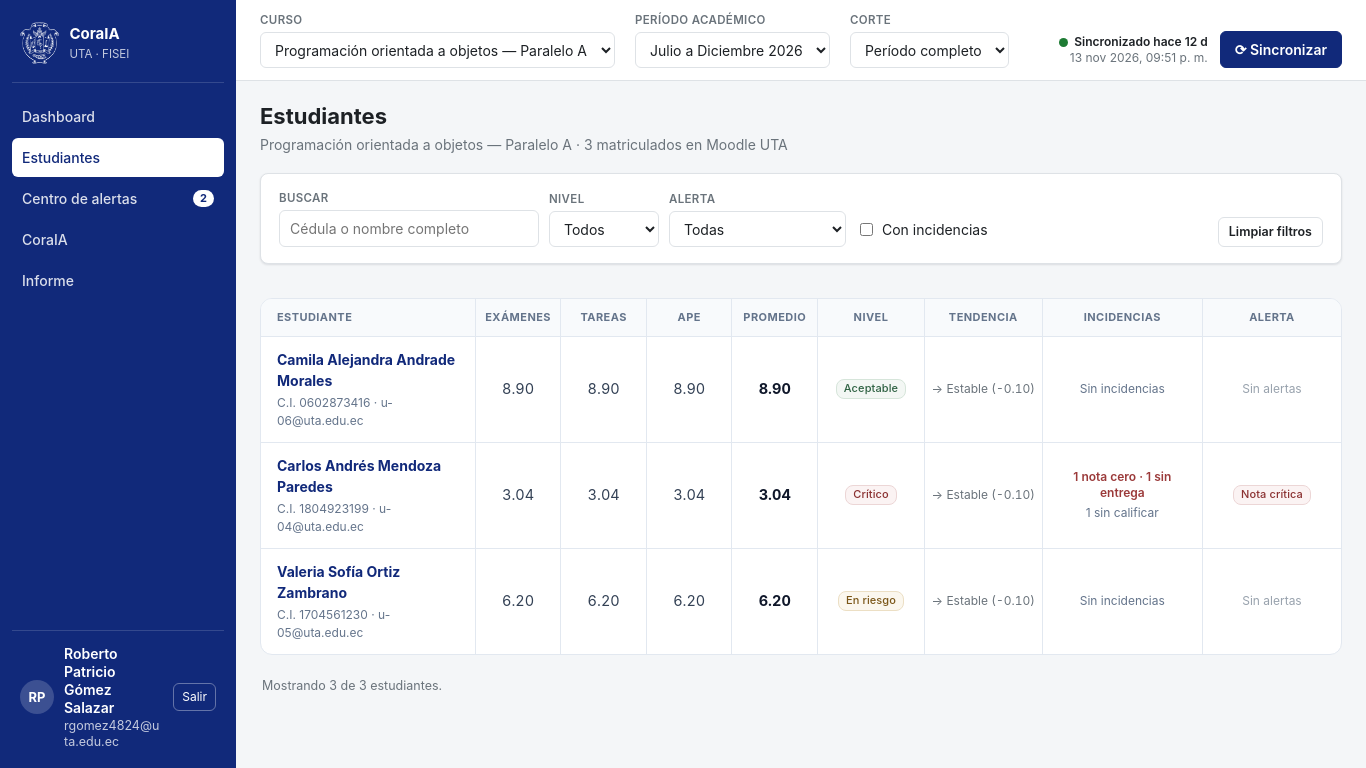
Scenario: RF-03 / RF-04 / RNF-08 · cursos, período y sincronización › el buscador y los filtros reducen el listado de estudiantes
The image size is (1366, 768).
Expected: the link "Carlos Andrés Mendoza Paredes" is shown, top-left (277, 454), bottom-right (467, 496)
Type "valeria" into the search field with placeholder "Cédula o nombre completo" at (409, 228), box top-left (279, 210), bottom-right (539, 247)
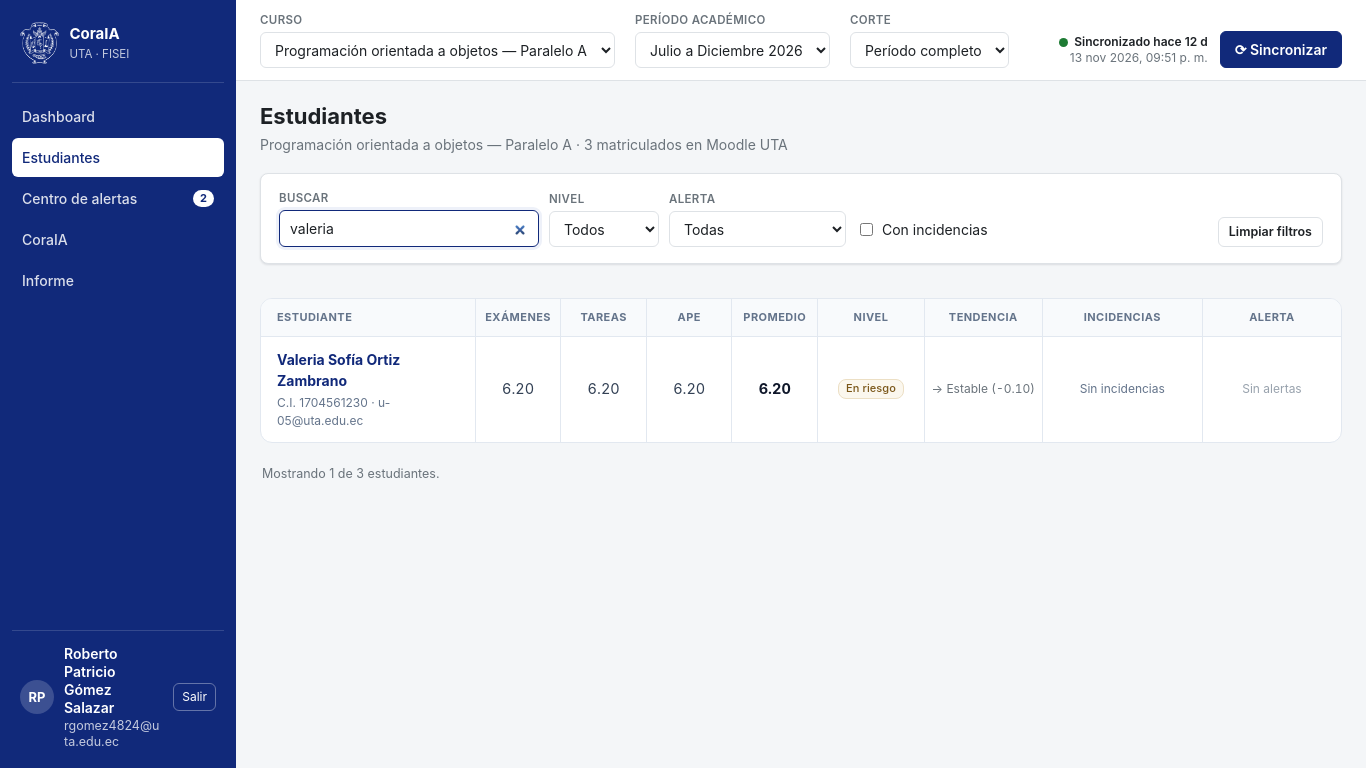
Expected: the link "Valeria Sofía Ortiz Zambrano" is shown, top-left (277, 350), bottom-right (400, 388)
Expected: the link "Carlos Andrés Mendoza Paredes" is gone
Clear the search field with placeholder "Cédula o nombre completo" at (409, 228), box top-left (279, 210), bottom-right (539, 247)
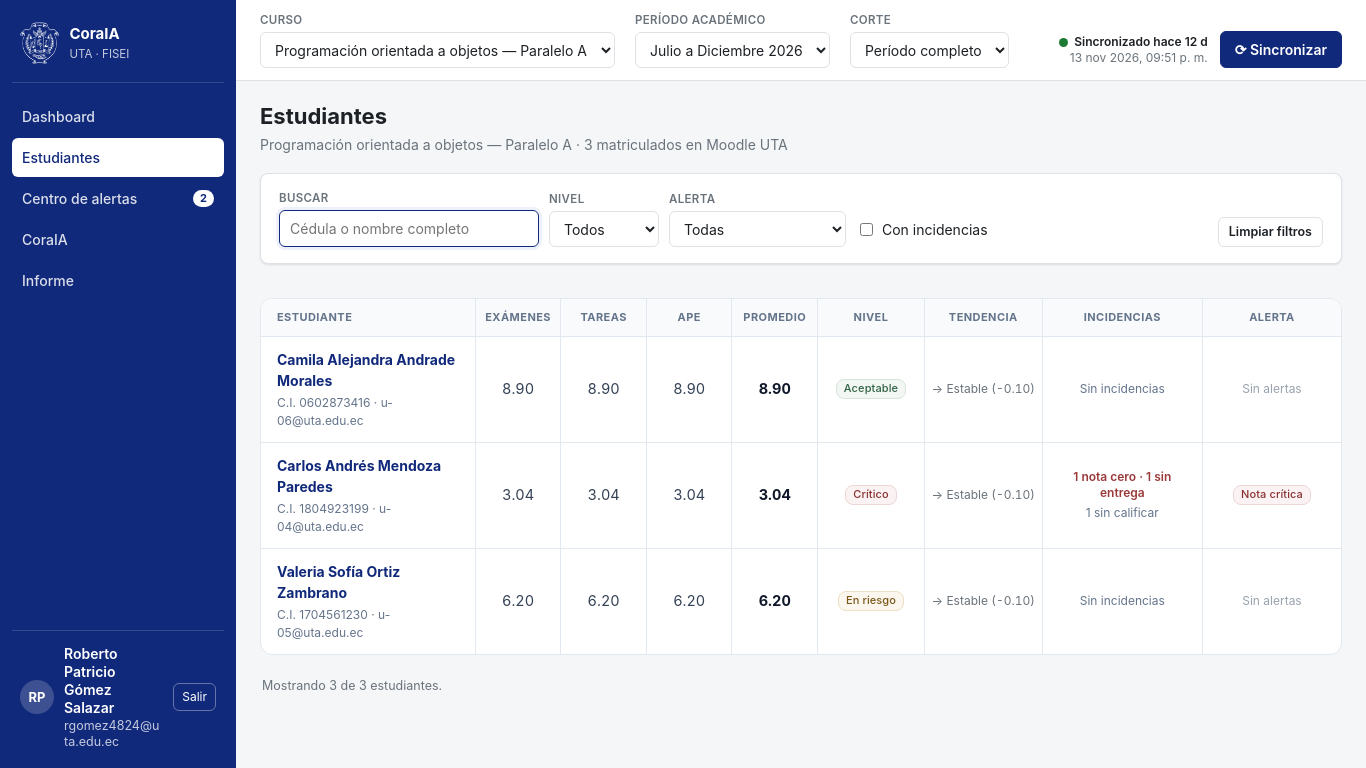
Click the checkbox labelled "Con incidencias" at (866, 229), box top-left (860, 222), bottom-right (873, 236)
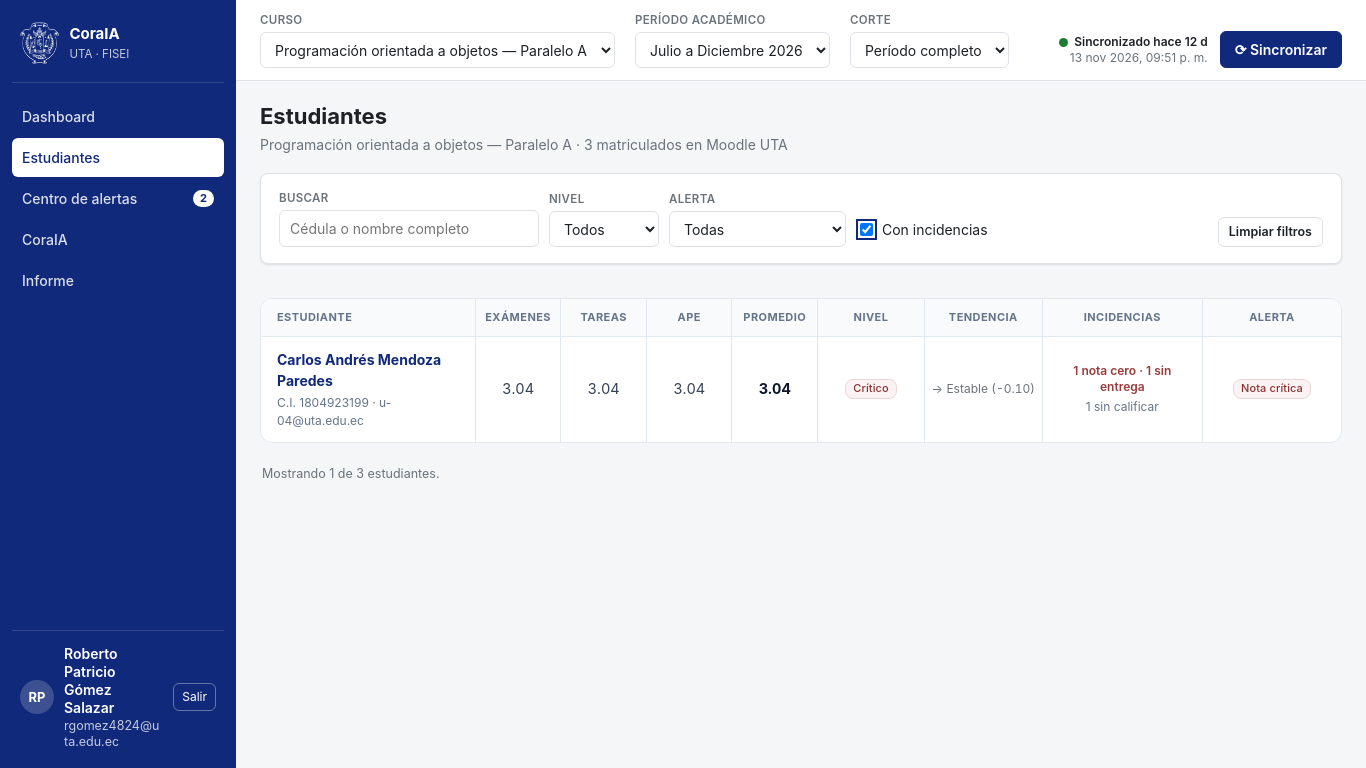
Expected: the link "Carlos Andrés Mendoza Paredes" is shown, top-left (277, 348), bottom-right (467, 390)
Expected: the link "Camila Alejandra Andrade Morales" is gone
